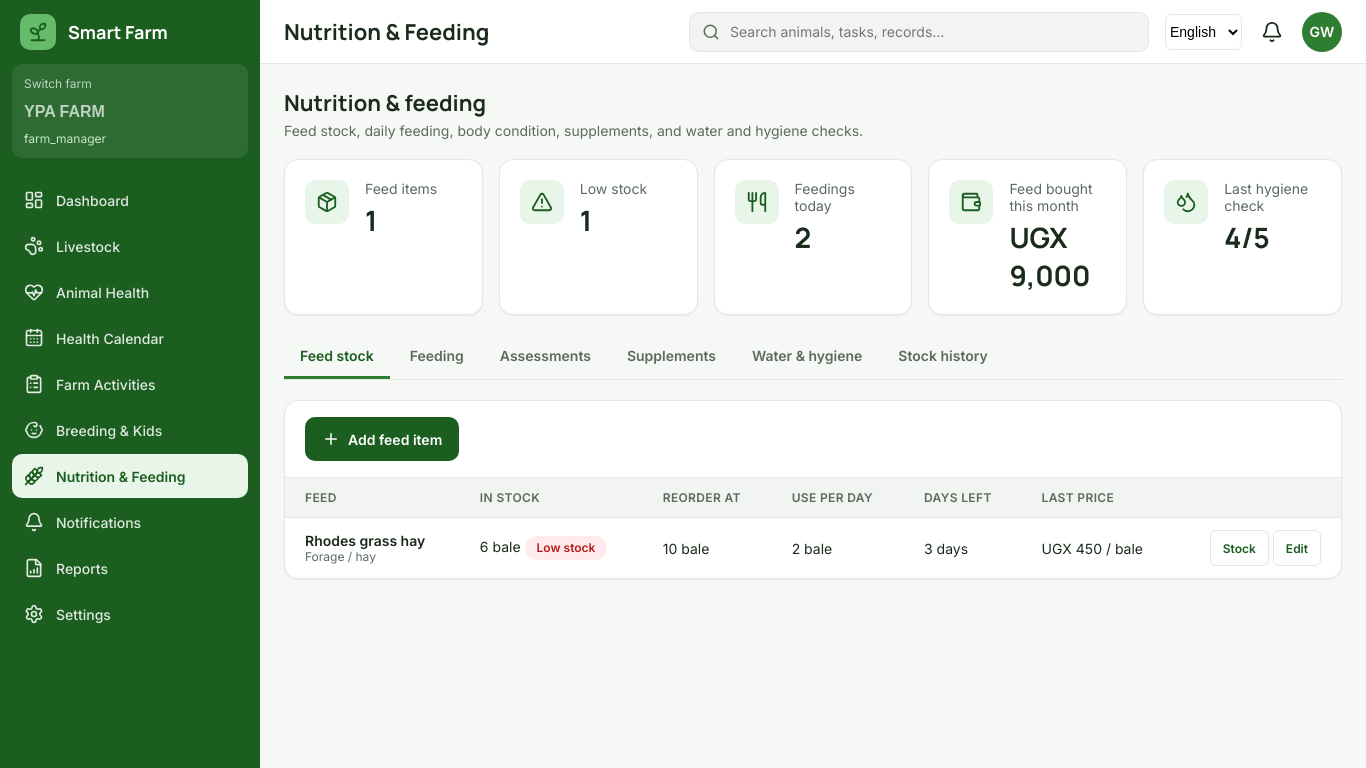
Test: nutrition › shows stock, low stock and days left, and records a purchase
The width and height of the screenshot is (1366, 768).
Check: the text "Low stock" in the row of "Rhodes grass hay" is shown, box [536, 540, 595, 555]
Check: the text "3 days" is shown, box [904, 518, 1022, 578]
Click the button with aria-label "Update stock of Rhodes grass hay" at (1239, 548), box [1210, 530, 1269, 566]
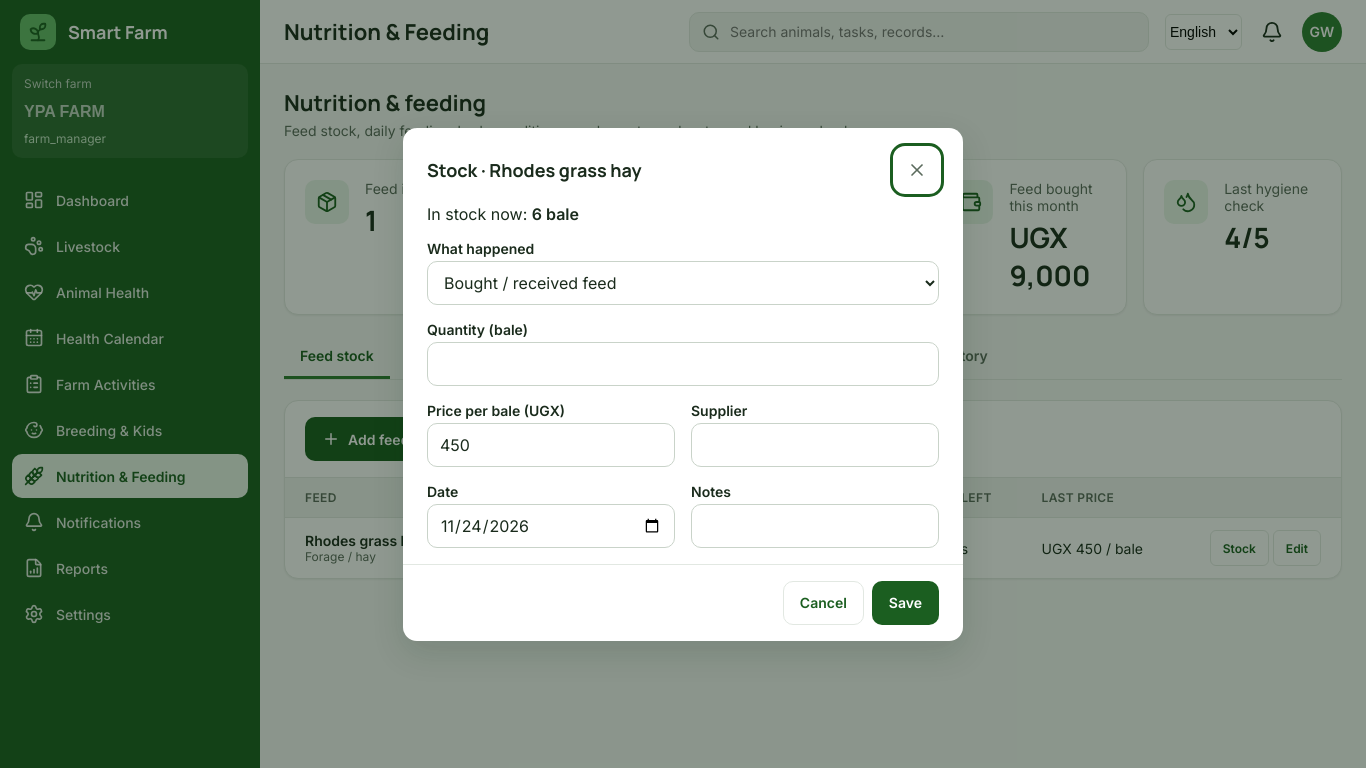
Type "20" into the number field labelled "Quantity (bale)" at (683, 364), box [427, 342, 939, 386]
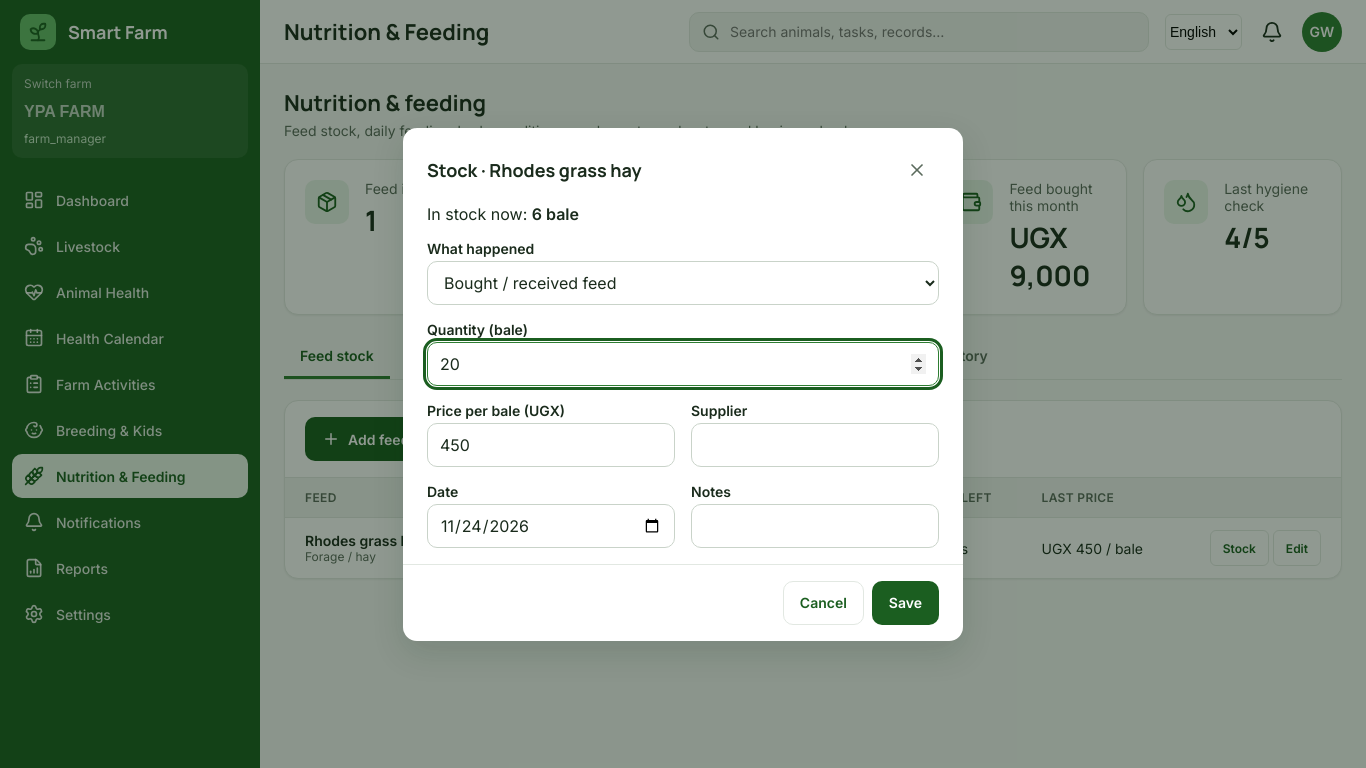
Type "Nakuru Agrovet" into the field labelled "Supplier" at (815, 444), box [691, 422, 939, 466]
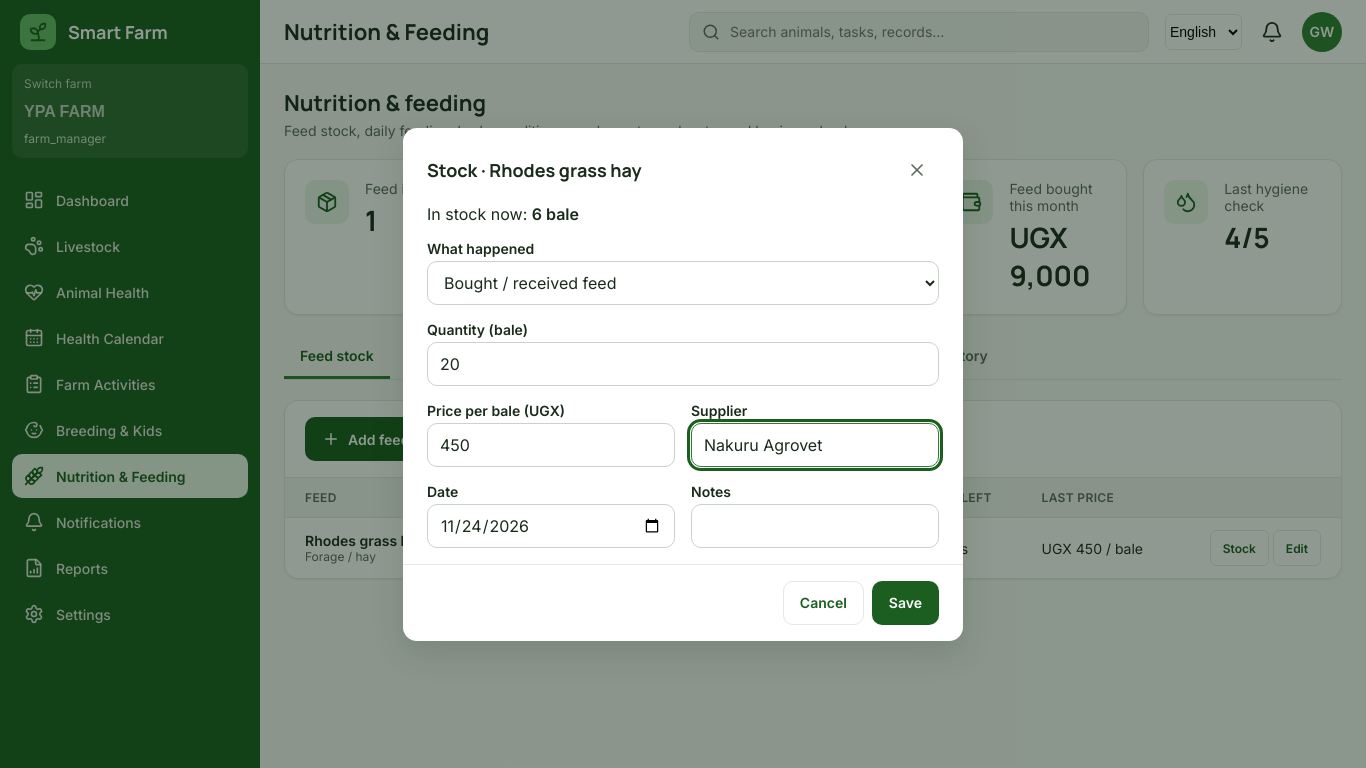
Click the button "Save" at (905, 602), box [872, 580, 939, 624]
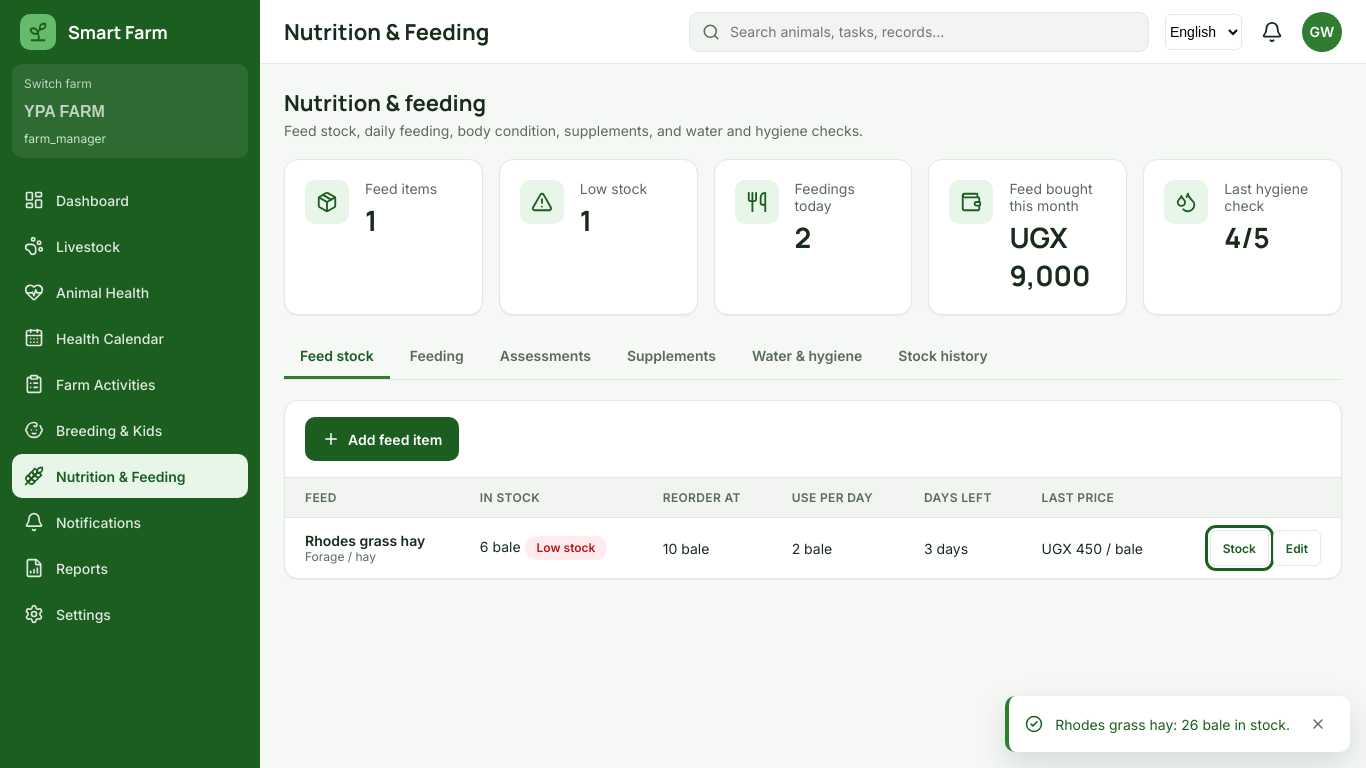
Check: the text "Rhodes grass hay: 26 bale in stock." is shown, box [1055, 716, 1290, 732]
